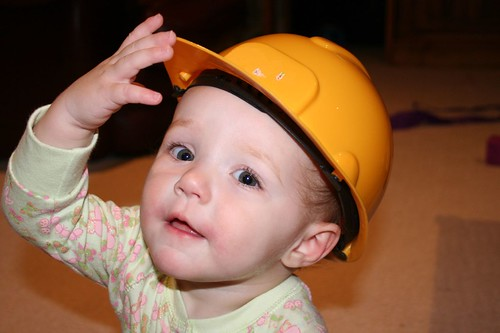person hardhat: (13, 16, 401, 333)
